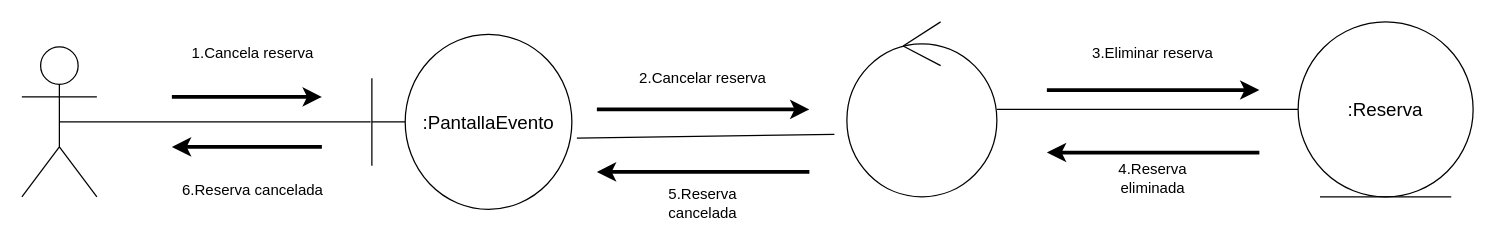
Some shapes in this 1495 by 245 pixel diagram are drawn without their labels. Here are the shapes that lost their labels. From the top down, the centre of each, then its label:
At point (59, 121): ":Estudiante".
At point (921, 109): ":Gestion Reserva".
